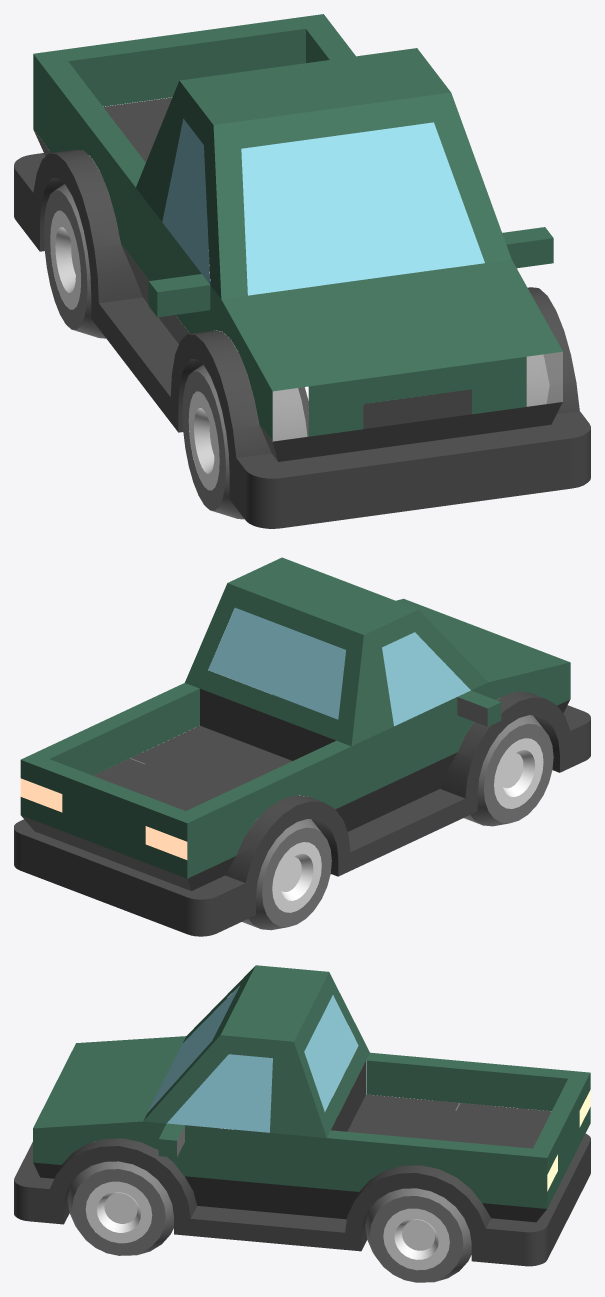
The model's file is car.gltf.
3 renders of one model, top to bottom at view 1: azimuth 30°, elevation 25°; view 2: azimuth 150°, elevation 25°; view 3: azimuth 270°, elevation 25°, orthographic. The views are drawn at different scales.
Parts seen in each view (by area): view 1: body, wheel_frontRight, wheel_backRight, wheel_frontLeft; view 2: body, wheel_frontRight, wheel_backRight; view 3: body, wheel_backLeft, wheel_frontLeft.
Part boxes in pixels (bbox=[...]): body: bbox=[14, 14, 590, 528]; wheel_frontRight: bbox=[182, 354, 307, 519]; wheel_backRight: bbox=[44, 174, 120, 338]; wheel_frontLeft: bbox=[526, 354, 549, 406]; body: bbox=[14, 557, 590, 936]; wheel_frontRight: bbox=[464, 715, 553, 826]; wheel_backRight: bbox=[242, 818, 331, 930]; body: bbox=[14, 965, 590, 1266]; wheel_backLeft: bbox=[365, 1188, 471, 1282]; wheel_frontLeft: bbox=[68, 1161, 173, 1255].
Bounding box in the file's own units: 0.1293 × 0.0914 × 0.2158.
